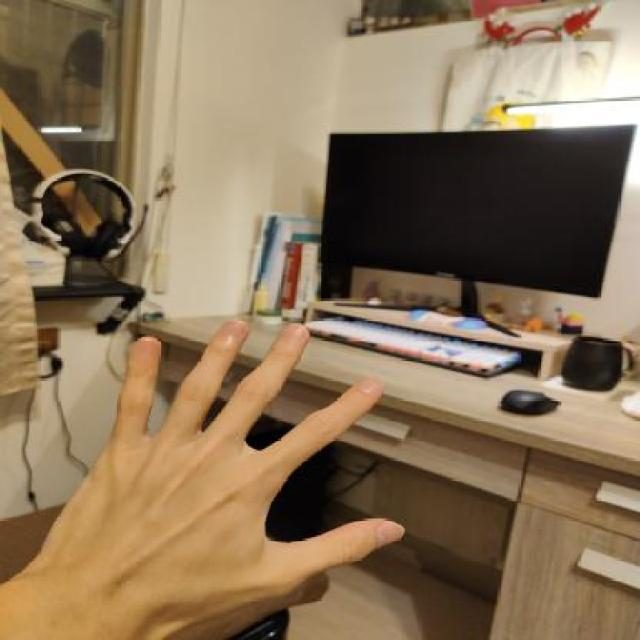bare_hand: (26, 311, 409, 640)
